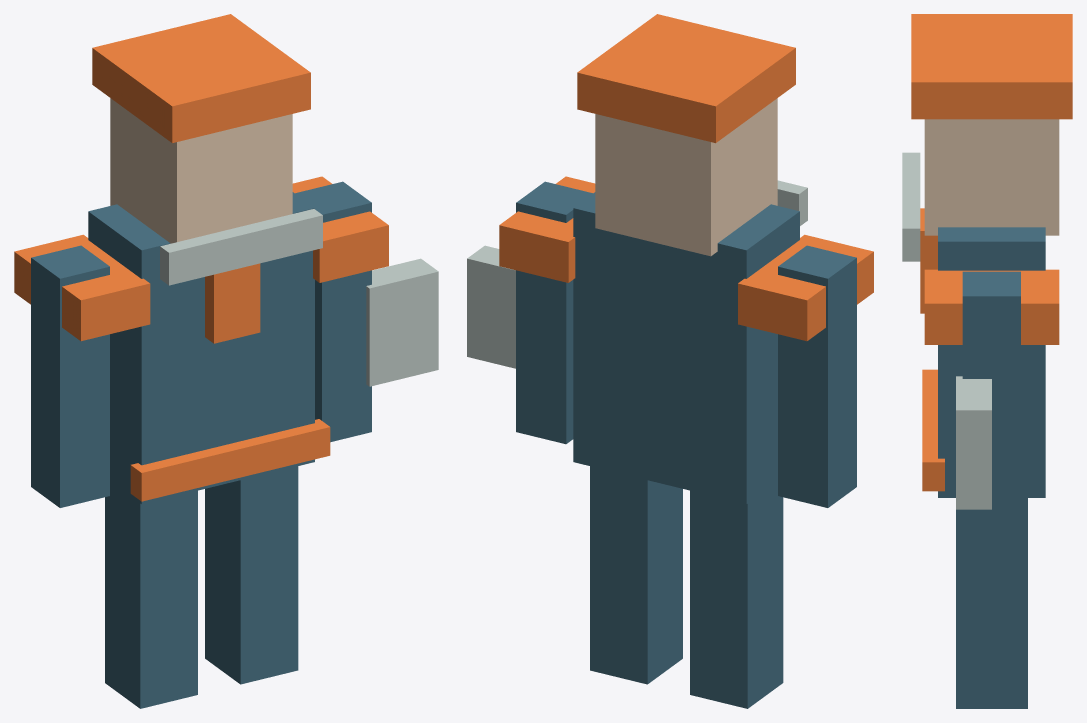
Rendered from 10_orin_deepwell_cartographer_of_ember.glb.
3 renders of one model, left to right at view 1: azimuth 30°, elevation 25°; view 2: azimuth 150°, elevation 25°; view 3: azimuth 270°, elevation 25°, orthographic.
Visible parts, largest first — view 1: Orin Deepwell, Cartographer of Ember; view 2: Orin Deepwell, Cartographer of Ember; view 3: Orin Deepwell, Cartographer of Ember.
Boxes of the visible parts, <box> form: Orin Deepwell, Cartographer of Ember: <box>14,14,438,708</box>; Orin Deepwell, Cartographer of Ember: <box>467,14,873,708</box>; Orin Deepwell, Cartographer of Ember: <box>902,14,1072,708</box>.
Size of the model in its own units: 1.03 by 1.62 by 0.402.
